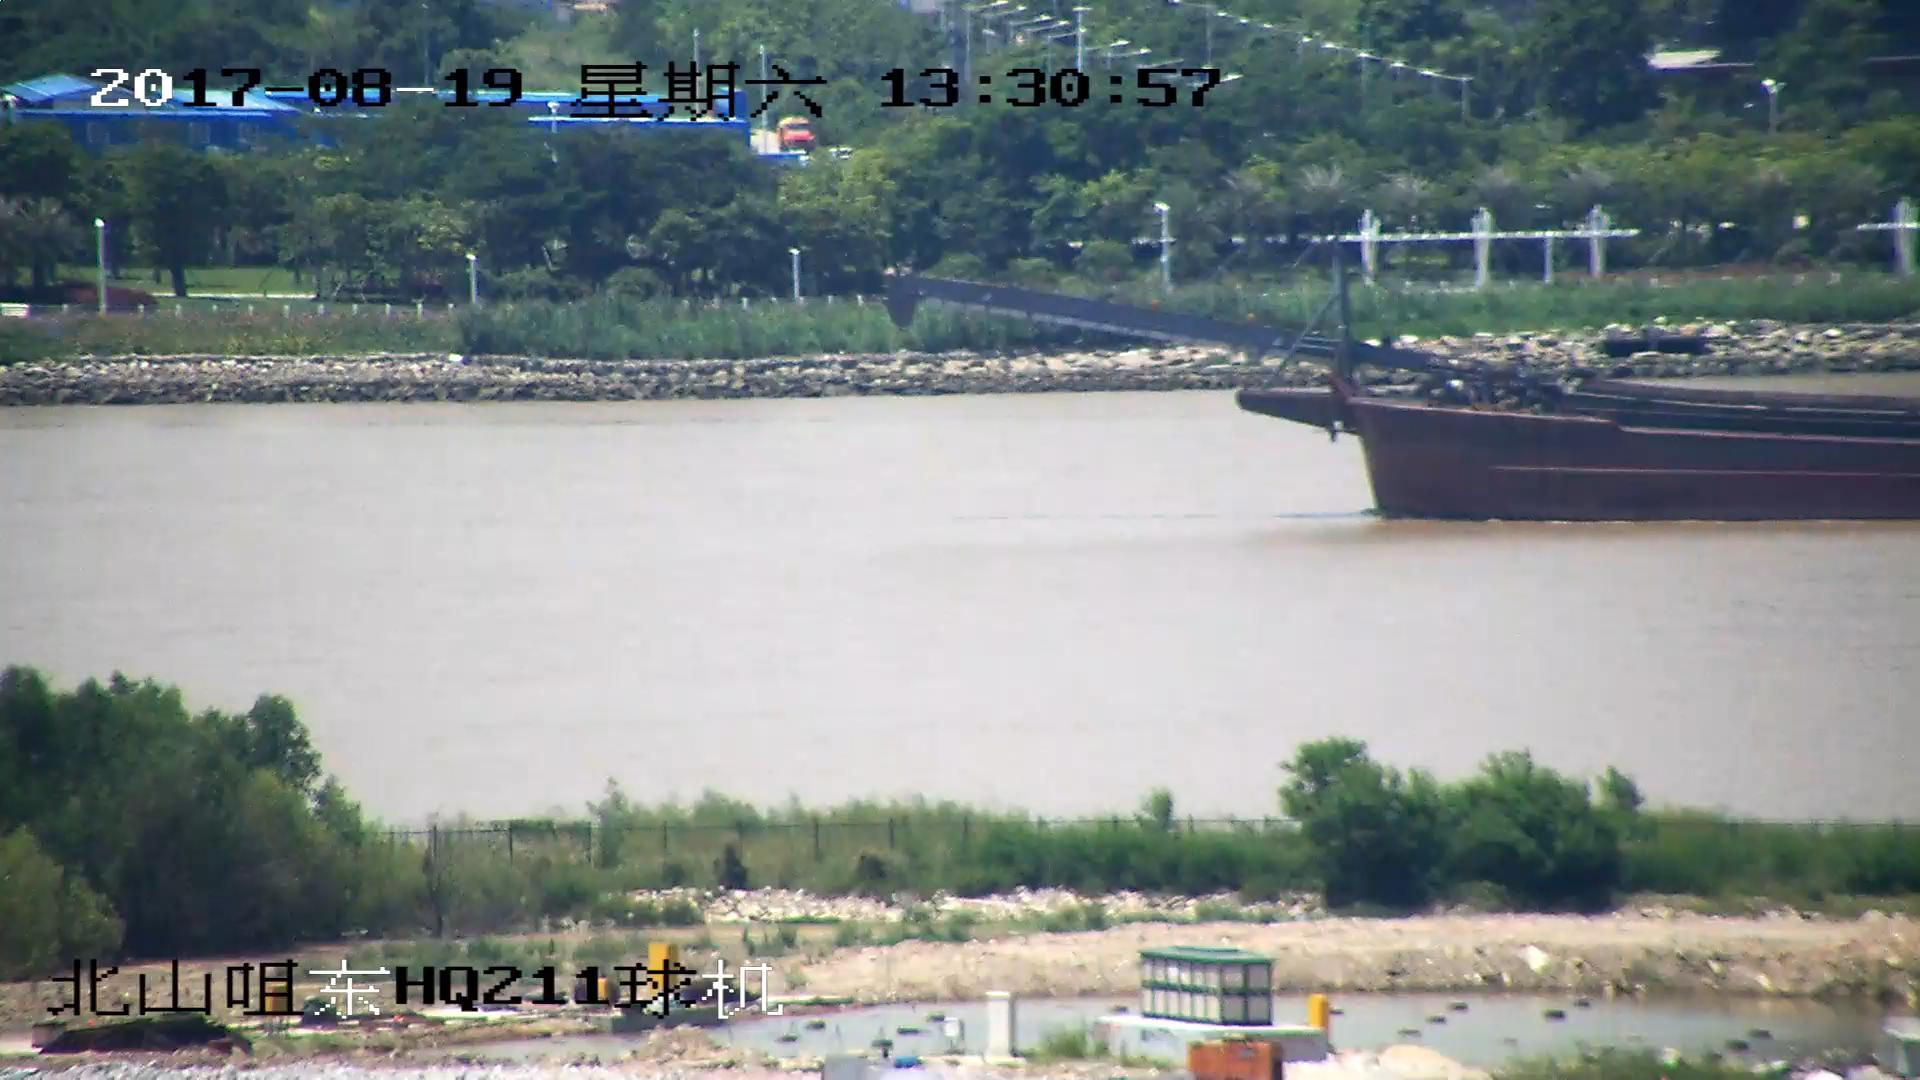Ship: (887, 237, 1920, 526)
